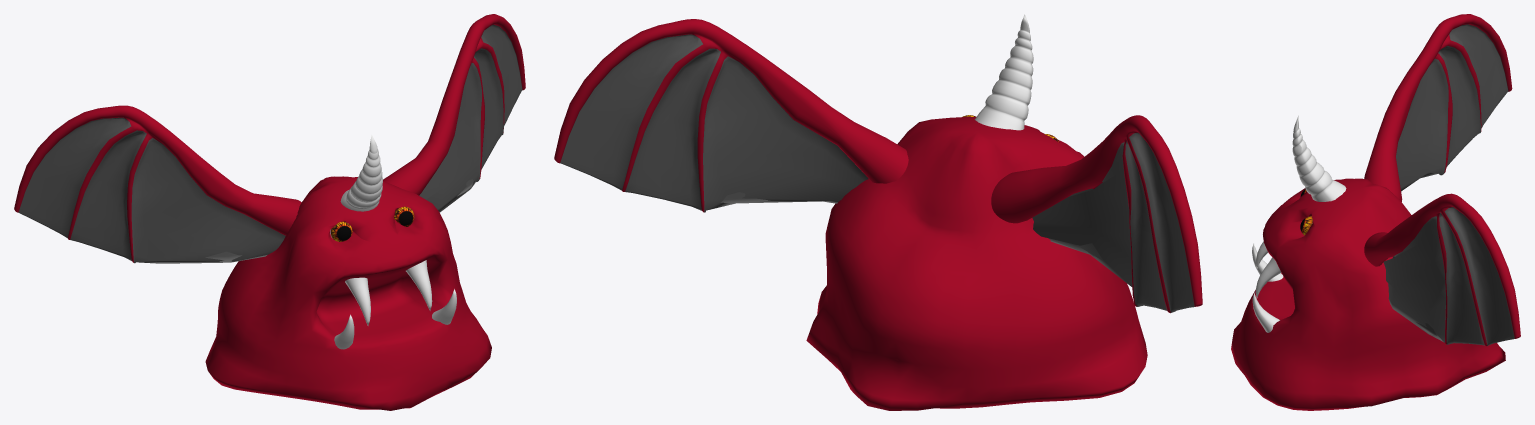
The model's file is boss_hinten.fbx.
The picture shows the model from 3 angles, left to right: view 1: azimuth 30°, elevation 25°; view 2: azimuth 150°, elevation 25°; view 3: azimuth 270°, elevation 25°; orthographic projection. The views are drawn at different scales.
Parts seen in each view (by area): view 1: polySurface18; view 2: polySurface18; view 3: polySurface18.
Boxes of the visible parts, left/top/right/bottom form: polySurface18: left=14, top=14, right=525, bottom=410; polySurface18: left=554, top=14, right=1202, bottom=410; polySurface18: left=1231, top=14, right=1520, bottom=410.
Size of the model in its own units: 8.69 by 4.32 by 4.33.
4 materials, 1 textured.
